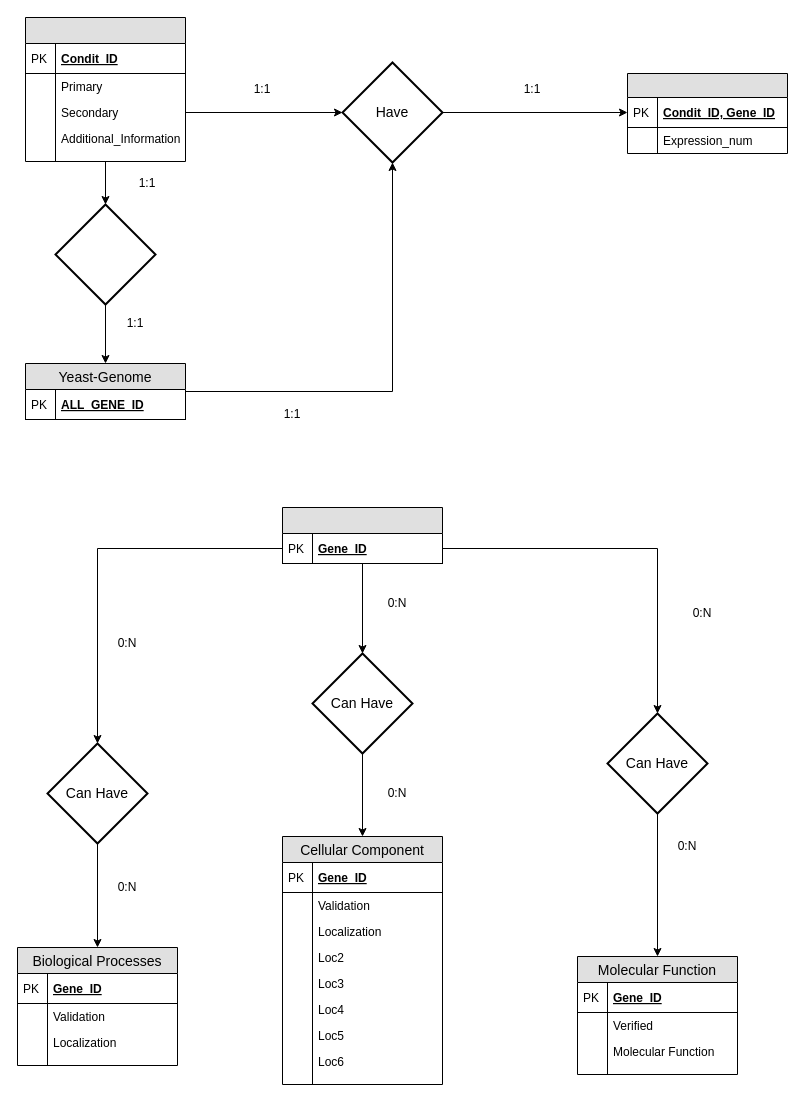
Image size: 805x1102. Some labels were removed from this diagram. Each missing label, with the box of its shape:
Conditions Annotations: (24, 16, 186, 162)
Has: (54, 203, 156, 305)
SC Expression: (626, 72, 788, 154)
Yeast-Gene: (282, 506, 442, 564)
